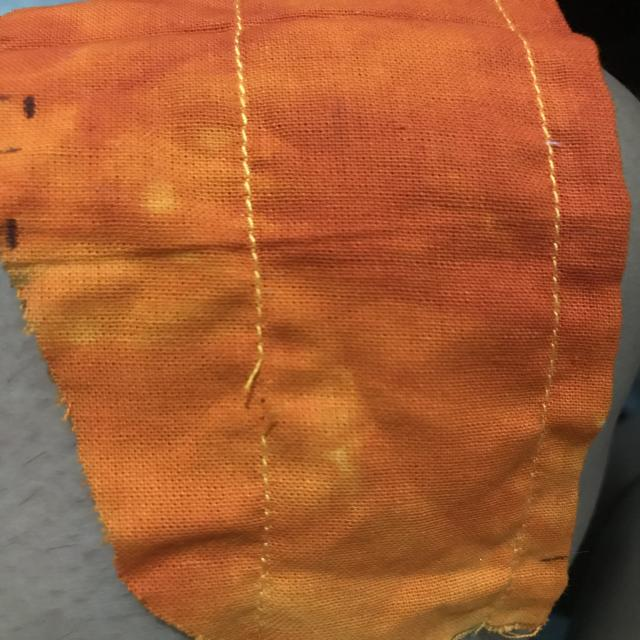broken: (226, 327, 324, 462)
good: (214, 103, 280, 246)
